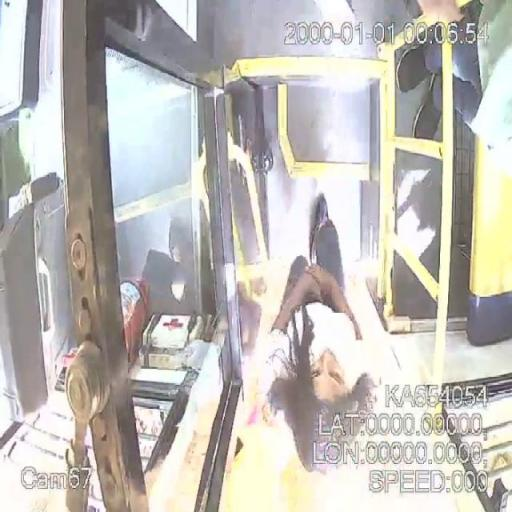persona: (262, 188, 378, 478), (397, 12, 512, 147)
